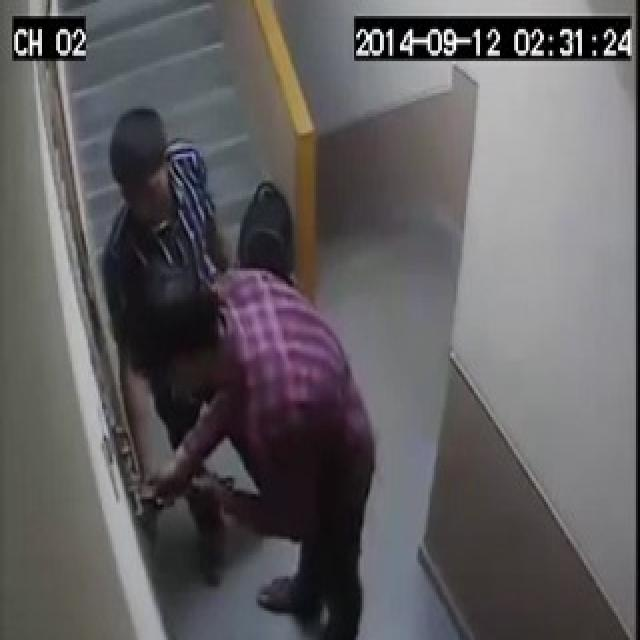burglary: (76, 118, 358, 634)
